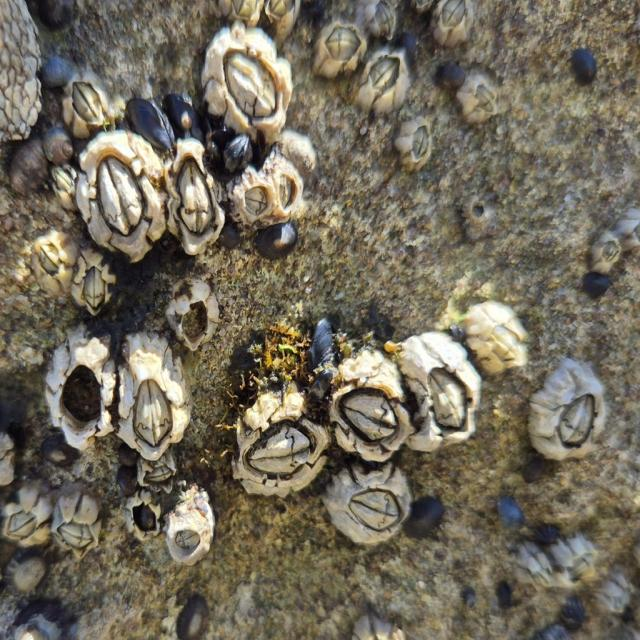barnacles: (73, 126, 171, 254), (228, 392, 333, 508), (320, 349, 418, 467), (202, 25, 294, 144), (400, 331, 484, 456), (114, 337, 195, 459), (525, 358, 611, 468), (47, 333, 116, 468), (321, 461, 414, 554), (166, 144, 227, 261), (464, 299, 534, 381), (164, 278, 219, 360), (55, 481, 105, 562), (166, 497, 216, 574), (62, 62, 117, 131), (354, 54, 414, 114), (6, 483, 52, 559), (232, 162, 272, 247), (312, 18, 366, 78), (28, 226, 68, 302), (75, 253, 118, 323), (427, 0, 482, 53), (451, 71, 502, 126), (394, 118, 436, 180), (271, 165, 308, 232), (363, 2, 406, 44), (591, 222, 624, 276)
